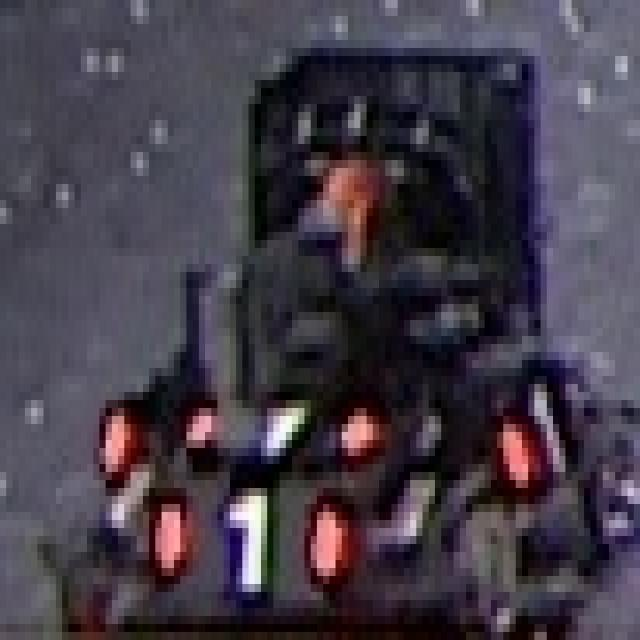R1: (149, 488, 342, 592), (180, 400, 373, 456)
